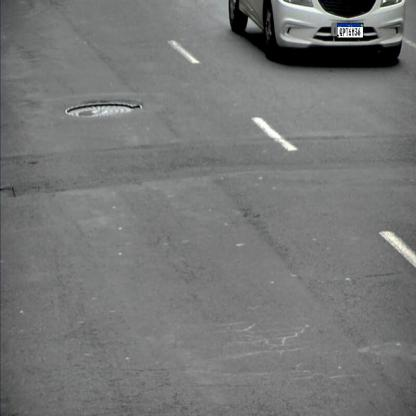PlacaM: (337, 23, 363, 38)
